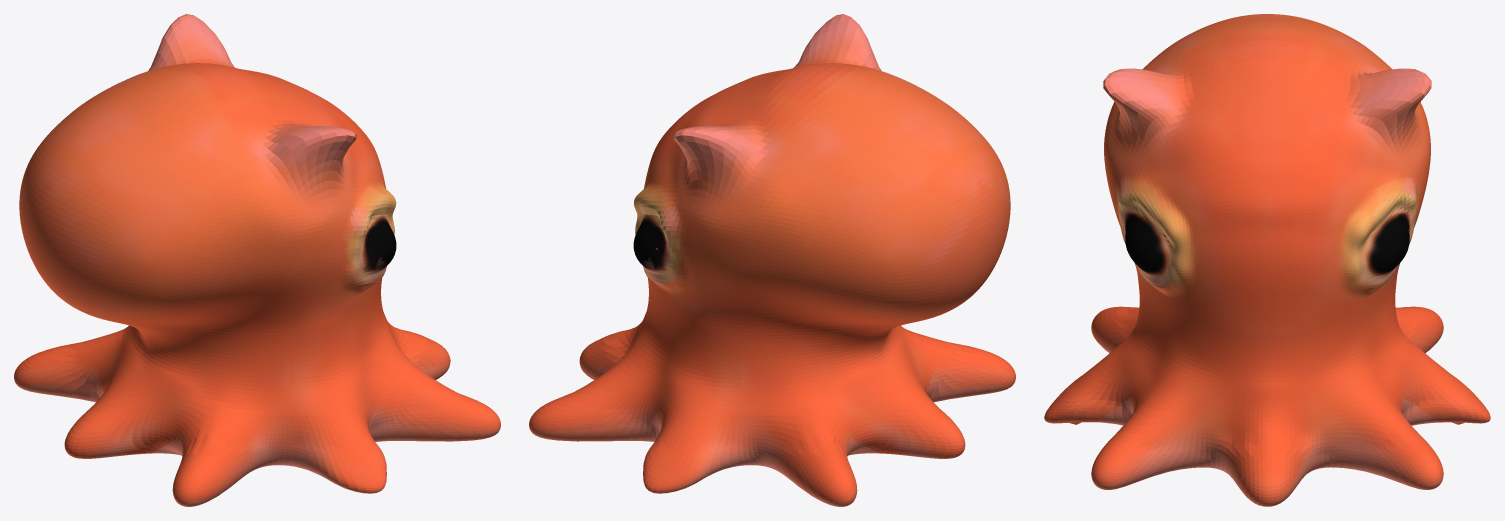
The model's file is octopus.glb.
3 renders of one model, left to right at view 1: azimuth 30°, elevation 25°; view 2: azimuth 150°, elevation 25°; view 3: azimuth 270°, elevation 25°, orthographic.
Parts seen in each view (by area): view 1: Cube; view 2: Cube; view 3: Cube.
Part boxes in pixels (x1,y1,x2,y2): Cube: (14,14,500,506); Cube: (529,14,1015,506); Cube: (1044,14,1490,506).
Size of the model in its own units: 6.64 by 5.61 by 6.21.
Materials: 1 (1 with a texture image).
